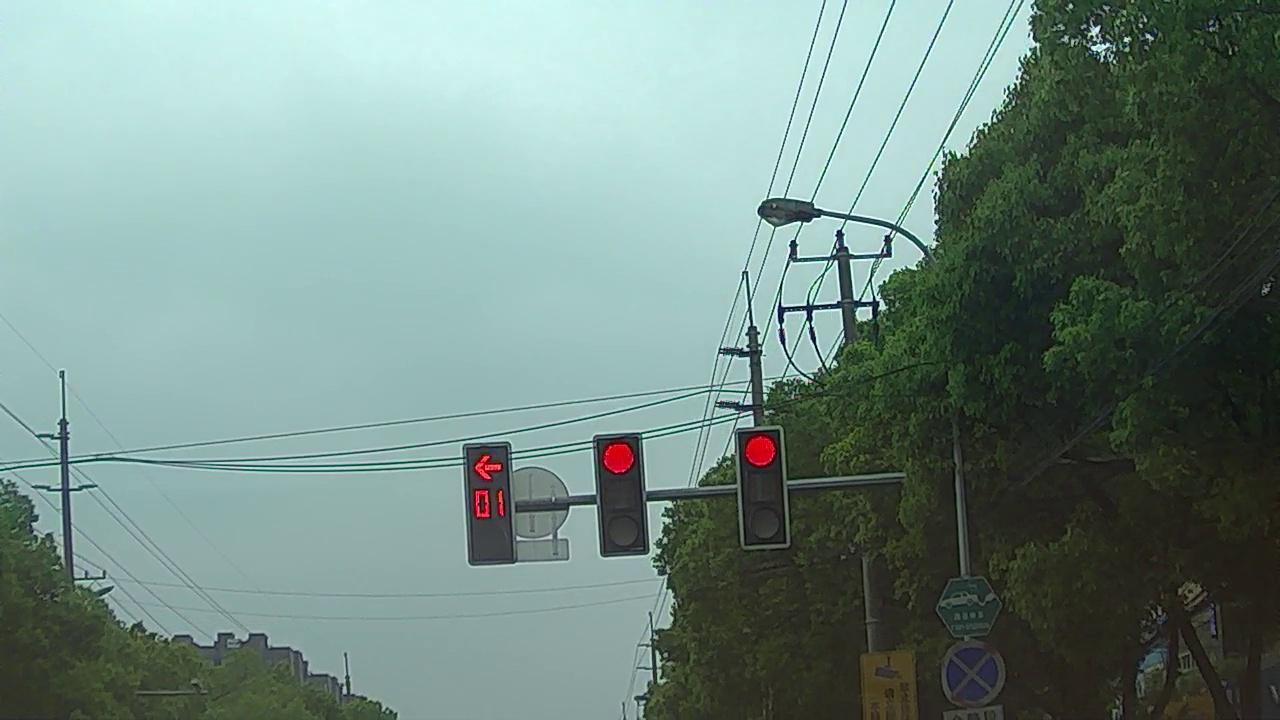traffic_light: (597, 437, 648, 556), (739, 430, 789, 548), (466, 448, 517, 557)
